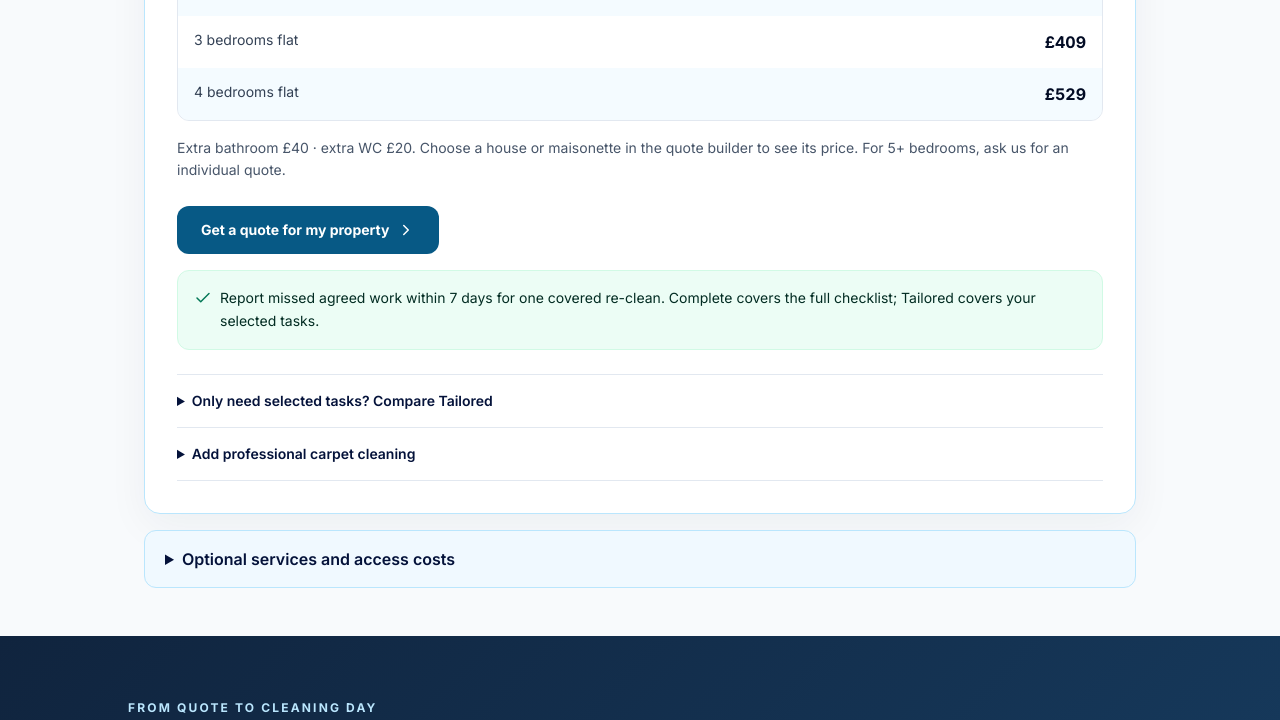
Scenario: PricingPage — current service prices and meaningful comparisons › leads with Complete flat prices and keeps selected-task prices clearly separate
(page scrolled)
Check: the text "Studio flat — Tailored from" is not shown
Click the heading "Only need selected tasks? Compare Tailored": (342, 400) [192,392,493,408]
(page scrolled)
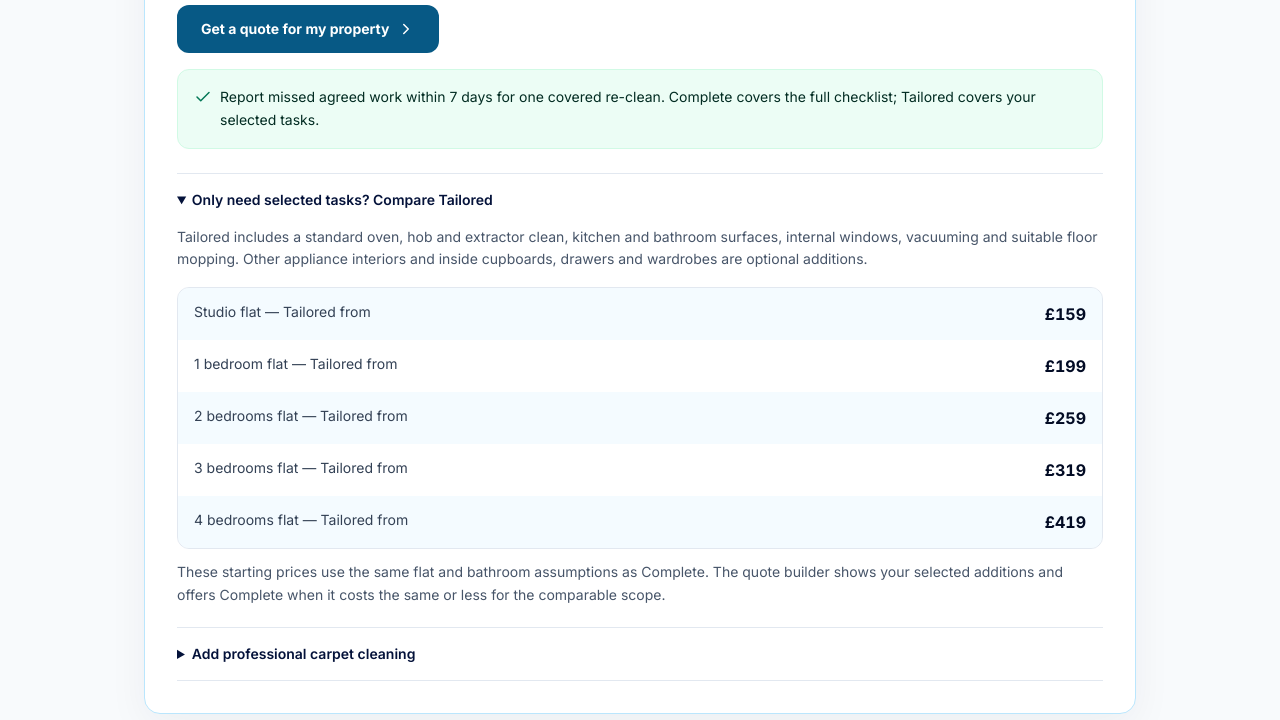
Check: the text "Only need selected tasks? Compare Tailored" shows "optional additions", box [177,228,1098,267]
